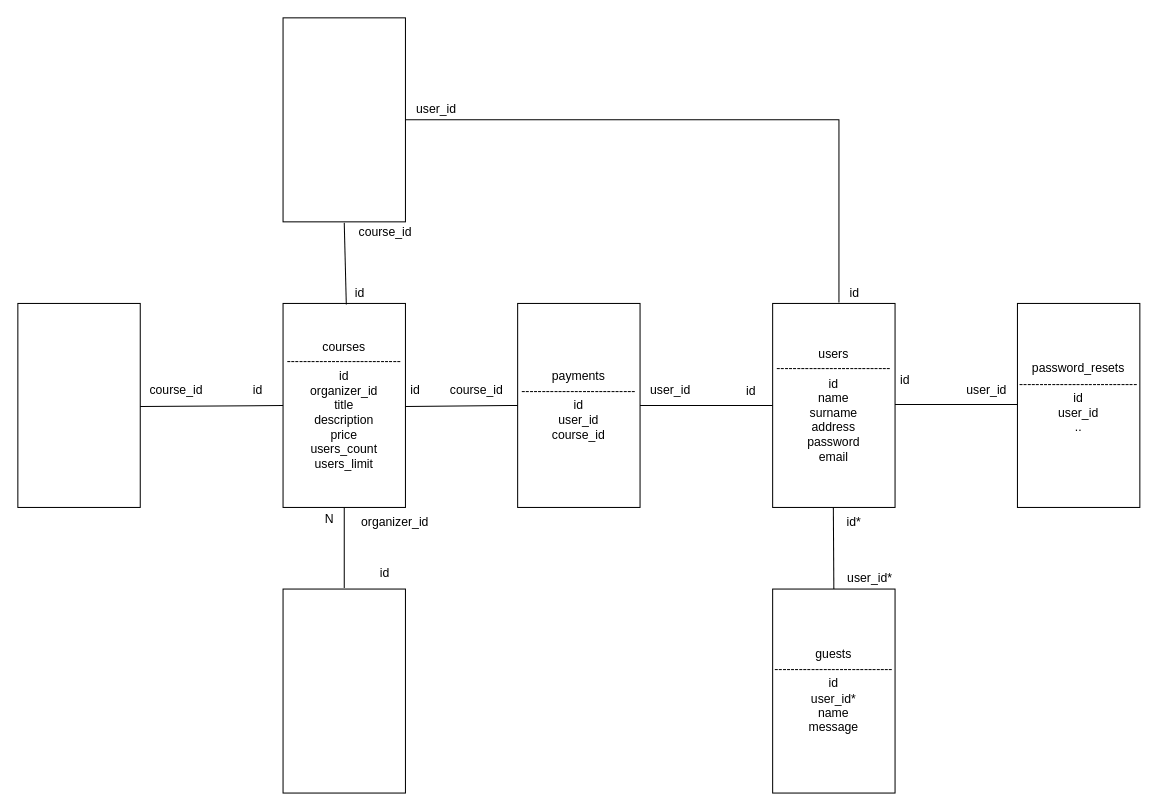
This 1158x811 diagram has some shape labels left out. Each missing label, with the centre of its shape:
"meetings ---------------------------- id course_id date title description" goes at (x=78, y=404).
"organizers ---------------------------- id name logo_url" goes at (x=343, y=690).
"students ---------------------------- id user_id course_id" goes at (x=343, y=119).
